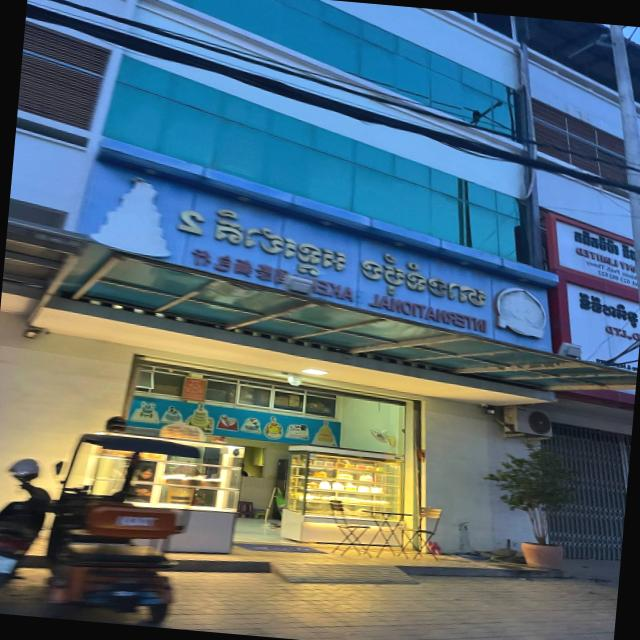19: (167, 197, 491, 314)
Yolov11_80vkh: (574, 289, 640, 330), (569, 223, 620, 254)
